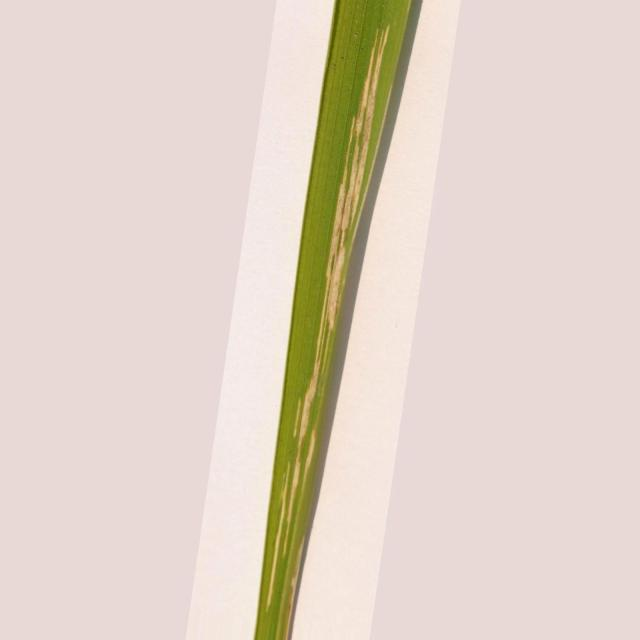Bacterial_Leaf_Blight: (270, 26, 389, 580), (365, 75, 393, 201), (282, 534, 303, 640)
